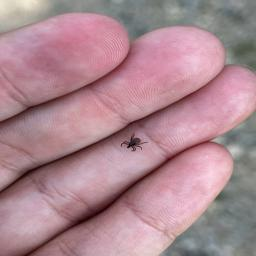Ixodes scapularis: (121, 135, 146, 152)
